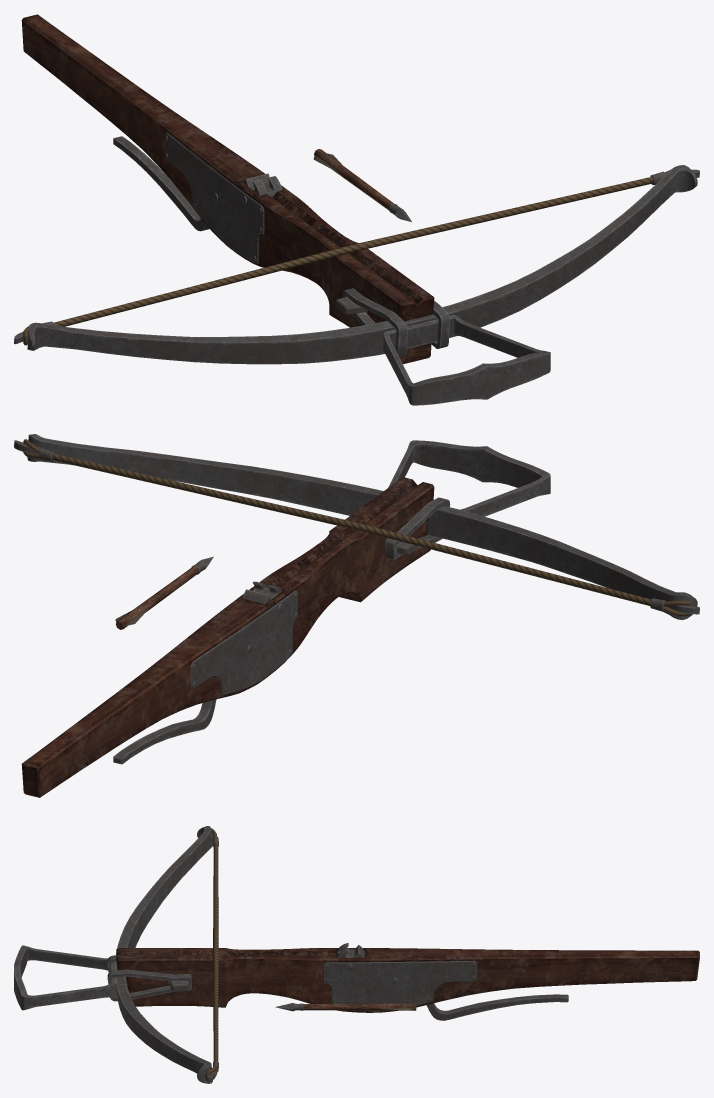
The model's file is medieval_crossbow.obj.
3 renders of one model, top to bottom at view 1: azimuth 30°, elevation 25°; view 2: azimuth 150°, elevation 25°; view 3: azimuth 270°, elevation 25°, orthographic. The views are drawn at different scales.
Visible parts, largest first — view 1: body, prod, bowstring, trigger, bolt, nut; view 2: body, prod, bowstring, trigger, bolt; view 3: body, prod, bowstring, trigger, bolt.
Part boxes in pixels (x1=…): body: x1=21, y1=14, x2=550, y2=405; prod: x1=14, y1=165, x2=699, y2=364; bowstring: x1=23, y1=170, x2=669, y2=345; trigger: x1=113, y1=136, x2=209, y2=231; bolt: x1=313, y1=149, x2=411, y2=221; nut: x1=242, y1=173, x2=282, y2=197; body: x1=21, y1=440, x2=550, y2=797; prod: x1=14, y1=434, x2=699, y2=620; bowstring: x1=23, y1=439, x2=692, y2=616; trigger: x1=113, y1=699, x2=216, y2=764; bolt: x1=115, y1=556, x2=213, y2=629; body: x1=14, y1=945, x2=699, y2=1012; prod: x1=115, y1=826, x2=214, y2=1083; bowstring: x1=205, y1=828, x2=218, y2=1080; trigger: x1=426, y1=994, x2=568, y2=1020; bolt: x1=275, y1=1003, x2=416, y2=1011.
Size of the model in its own units: 0.7741 by 0.1057 by 0.8948.
